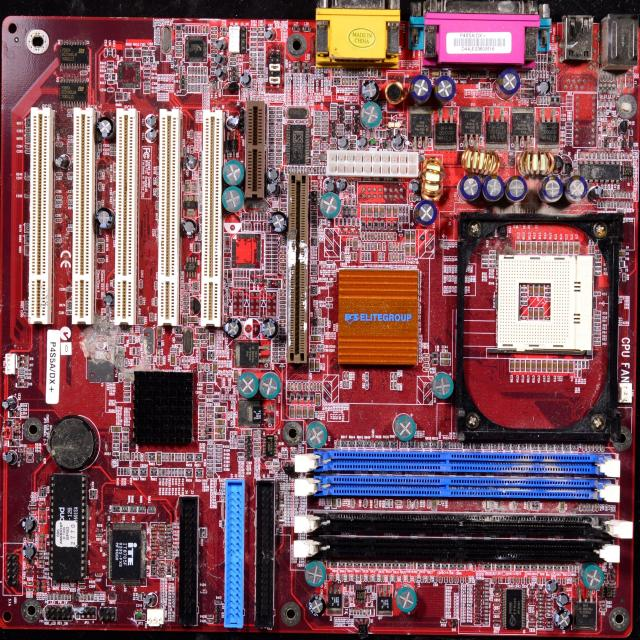Capacitor Jumper: (246, 322, 257, 335), (265, 322, 275, 334), (228, 322, 238, 333), (105, 294, 114, 303), (148, 115, 156, 125), (6, 398, 15, 406), (195, 327, 205, 332), (432, 500, 437, 509), (150, 131, 156, 138), (171, 354, 175, 364), (290, 407, 294, 417), (242, 429, 250, 434), (216, 408, 225, 412), (296, 407, 300, 416), (216, 427, 223, 432), (234, 370, 238, 378), (303, 408, 307, 416), (310, 408, 314, 416), (158, 452, 161, 462), (56, 218, 62, 223), (229, 270, 232, 280), (217, 434, 224, 438), (426, 576, 429, 585), (188, 317, 194, 321), (316, 395, 319, 403), (113, 427, 119, 431), (148, 46, 154, 50), (142, 46, 148, 50), (40, 502, 46, 506), (387, 574, 390, 582), (26, 588, 32, 592), (367, 594, 370, 602), (620, 250, 624, 256), (154, 298, 157, 305), (311, 362, 314, 369), (415, 441, 418, 448), (527, 502, 530, 509), (561, 503, 564, 510), (327, 562, 330, 569), (155, 188, 158, 195), (344, 218, 347, 225), (198, 232, 201, 239), (139, 279, 142, 286), (112, 280, 115, 287), (521, 292, 526, 296), (26, 128, 30, 133), (471, 136, 473, 146), (211, 334, 213, 343), (316, 362, 319, 368), (216, 420, 222, 423), (14, 435, 20, 438), (439, 439, 441, 448), (499, 442, 502, 448), (105, 48, 107, 57), (511, 564, 514, 570), (96, 573, 102, 576), (333, 574, 336, 580), (381, 575, 384, 581), (465, 576, 468, 582), (528, 602, 534, 605), (541, 64, 544, 70), (188, 68, 191, 74), (342, 78, 345, 84), (288, 120, 294, 123), (577, 152, 580, 158), (198, 152, 201, 158), (224, 233, 230, 236), (155, 282, 157, 290), (125, 358, 127, 366), (113, 48, 115, 56), (395, 574, 397, 582), (408, 575, 410, 583), (250, 58, 254, 62), (156, 177, 158, 185), (67, 287, 72, 290), (326, 298, 331, 301), (23, 313, 28, 316), (521, 317, 526, 320), (311, 344, 316, 347), (319, 384, 322, 389), (124, 392, 129, 395), (123, 440, 128, 443), (438, 499, 441, 504), (494, 603, 499, 606), (107, 89, 112, 92), (537, 98, 540, 103), (68, 109, 73, 112), (565, 126, 570, 129), (566, 142, 571, 145), (322, 147, 327, 150), (56, 195, 61, 198), (312, 206, 317, 209), (384, 234, 387, 239), (327, 283, 332, 286), (176, 358, 178, 365), (214, 363, 216, 370), (198, 364, 200, 371), (202, 364, 204, 371), (347, 372, 349, 379), (169, 454, 171, 461), (512, 502, 514, 509), (191, 66, 193, 73), (204, 67, 206, 74), (194, 67, 196, 74), (612, 119, 614, 126), (98, 145, 100, 152), (184, 146, 186, 153), (114, 192, 116, 199), (242, 213, 244, 220), (156, 230, 158, 237), (194, 292, 198, 295), (66, 312, 72, 314), (176, 30, 180, 33), (326, 319, 328, 325), (318, 348, 322, 351), (424, 358, 428, 361), (138, 359, 140, 365), (210, 364, 212, 370), (303, 384, 305, 390), (208, 395, 212, 398), (200, 403, 204, 406), (337, 440, 339, 446), (372, 441, 374, 447), (113, 444, 117, 447), (471, 443, 473, 449), (590, 444, 592, 450), (146, 454, 148, 460), (364, 500, 366, 506), (375, 500, 377, 506), (428, 501, 430, 507), (492, 502, 494, 508), (582, 504, 584, 510), (586, 504, 588, 510), (579, 504, 581, 510), (466, 563, 468, 569), (341, 574, 343, 580), (347, 575, 349, 581), (368, 574, 370, 580), (401, 575, 403, 581), (434, 576, 436, 582), (414, 576, 416, 582), (439, 577, 442, 581), (421, 576, 423, 582), (449, 578, 452, 582), (557, 578, 559, 584), (476, 591, 480, 594), (230, 59, 236, 61), (475, 602, 479, 605), (600, 609, 604, 612), (494, 621, 500, 623), (251, 63, 255, 66), (108, 66, 112, 69), (180, 67, 182, 73), (332, 70, 334, 76), (335, 70, 337, 76), (375, 70, 377, 76), (532, 71, 534, 77), (352, 78, 354, 84), (346, 78, 348, 84), (219, 81, 221, 87), (548, 98, 550, 104), (302, 120, 306, 123), (297, 120, 300, 124), (276, 123, 282, 125), (608, 130, 610, 136), (521, 139, 523, 145), (270, 146, 274, 149), (190, 146, 192, 152), (630, 152, 632, 158), (598, 152, 600, 158), (199, 162, 201, 168), (285, 166, 287, 172), (298, 167, 300, 173), (320, 168, 322, 174), (98, 172, 100, 178), (56, 174, 62, 176), (192, 182, 196, 185), (99, 182, 101, 188), (410, 194, 412, 200), (348, 198, 350, 204), (98, 202, 100, 208), (200, 216, 202, 222), (335, 218, 337, 224), (242, 223, 244, 229), (365, 233, 367, 239), (390, 234, 392, 240), (375, 234, 377, 240), (272, 243, 276, 246), (378, 243, 380, 249), (272, 252, 278, 254), (354, 253, 356, 259), (355, 253, 357, 259), (272, 259, 276, 262), (221, 27, 225, 30), (203, 27, 205, 32), (318, 310, 320, 315), (280, 321, 285, 323), (128, 327, 130, 332), (193, 340, 198, 342), (423, 368, 428, 370), (18, 376, 23, 378), (394, 383, 396, 388), (288, 384, 290, 389), (306, 384, 308, 389), (296, 384, 298, 389), (317, 385, 319, 390), (211, 38, 216, 40), (208, 407, 213, 409), (208, 411, 213, 413), (13, 426, 18, 428), (199, 434, 204, 436), (587, 445, 589, 450), (254, 447, 259, 449), (138, 454, 140, 459), (208, 464, 213, 466), (169, 469, 171, 474), (408, 501, 410, 506), (416, 501, 418, 506), (596, 505, 598, 510), (414, 563, 416, 568), (472, 564, 474, 569), (362, 574, 364, 579), (374, 576, 376, 581), (445, 576, 447, 581), (493, 577, 495, 582), (499, 577, 501, 582), (506, 578, 508, 583), (553, 56, 555, 61), (476, 584, 481, 586), (79, 586, 84, 588), (495, 593, 500, 595), (475, 610, 480, 612), (363, 609, 365, 614), (530, 625, 535, 627), (551, 66, 553, 71), (359, 71, 361, 76), (144, 82, 149, 84), (309, 118, 311, 123), (191, 131, 193, 136), (110, 145, 115, 147), (330, 147, 335, 149), (110, 149, 115, 151), (611, 152, 613, 157), (608, 153, 610, 158), (291, 167, 293, 172), (311, 168, 313, 173), (352, 179, 354, 184), (614, 191, 616, 196), (344, 198, 346, 203), (268, 214, 270, 219), (312, 217, 317, 219), (353, 219, 355, 224), (248, 224, 250, 229), (273, 239, 278, 241), (98, 239, 103, 241), (347, 239, 349, 244), (347, 240, 349, 245), (362, 244, 364, 249), (280, 252, 285, 254), (342, 253, 344, 258), (280, 256, 285, 258), (272, 264, 277, 266), (247, 271, 249, 276), (545, 284, 550, 286), (520, 284, 525, 286), (200, 426, 203, 429), (200, 429, 203, 432), (39, 564, 42, 567), (278, 142, 281, 145), (313, 181, 316, 184), (25, 195, 28, 198), (280, 302, 284, 304), (280, 316, 284, 318), (546, 317, 550, 319), (212, 31, 216, 33), (280, 324, 284, 326), (200, 340, 204, 342), (318, 345, 322, 347), (311, 349, 315, 351), (424, 354, 428, 356), (280, 356, 284, 358), (212, 34, 216, 36), (177, 35, 181, 37), (274, 360, 278, 362), (424, 364, 428, 366), (125, 379, 129, 381), (366, 383, 368, 387), (314, 385, 316, 389), (200, 395, 204, 397), (208, 414, 212, 416), (124, 428, 128, 430), (14, 430, 18, 432), (527, 444, 529, 448), (598, 446, 600, 450), (266, 462, 270, 464), (208, 468, 212, 470), (212, 46, 216, 48), (159, 470, 161, 474), (396, 501, 400, 503), (176, 54, 180, 56), (479, 564, 481, 568), (159, 571, 163, 573), (159, 575, 163, 577), (461, 577, 463, 581), (522, 578, 524, 582), (516, 578, 518, 582), (563, 578, 565, 582), (538, 578, 540, 582), (455, 578, 457, 582), (526, 578, 528, 582), (476, 588, 480, 590), (547, 594, 551, 596), (530, 595, 534, 597), (476, 595, 480, 597), (136, 610, 140, 612), (547, 610, 551, 612), (494, 611, 498, 613), (475, 614, 479, 616), (548, 615, 552, 617), (538, 618, 542, 620), (530, 619, 534, 621), (476, 622, 480, 624), (547, 625, 551, 627), (211, 68, 215, 70), (251, 68, 255, 70), (201, 68, 203, 72), (361, 71, 363, 75), (354, 80, 356, 84), (566, 123, 570, 125), (270, 128, 274, 130), (276, 138, 280, 140), (314, 140, 318, 142), (418, 138, 419, 146), (56, 142, 60, 144), (322, 144, 326, 146), (330, 144, 334, 146), (26, 146, 30, 148), (26, 150, 30, 152), (68, 151, 72, 153), (622, 153, 624, 157), (269, 157, 273, 159), (269, 161, 273, 163), (281, 208, 285, 210), (312, 213, 316, 215), (113, 232, 115, 236), (272, 248, 276, 250), (224, 250, 228, 252), (327, 262, 331, 264), (281, 266, 285, 268), (272, 276, 276, 278), (211, 27, 215, 29), (225, 315, 226, 322), (124, 452, 125, 459), (132, 453, 133, 460), (553, 85, 554, 92), (375, 243, 376, 250), (199, 26, 200, 32), (546, 289, 548, 292), (281, 294, 284, 296), (207, 27, 208, 33), (140, 298, 141, 304), (161, 358, 162, 364), (344, 372, 345, 378), (120, 375, 121, 381), (311, 384, 312, 390), (259, 38, 262, 40), (200, 422, 203, 424), (177, 42, 180, 44), (200, 438, 203, 440), (120, 453, 121, 459), (352, 500, 353, 506), (593, 504, 594, 510), (30, 508, 36, 509), (160, 524, 163, 526), (152, 528, 155, 530), (212, 54, 215, 56), (153, 543, 156, 545), (231, 54, 234, 56), (152, 556, 155, 558), (39, 557, 42, 559), (160, 561, 163, 563), (492, 564, 493, 570), (353, 574, 354, 580), (512, 577, 513, 583), (548, 603, 551, 605), (230, 62, 233, 64), (211, 62, 214, 64), (538, 64, 539, 70), (545, 64, 546, 70), (144, 71, 150, 72), (269, 135, 272, 137), (599, 140, 600, 146), (111, 153, 114, 155), (269, 165, 271, 168), (276, 166, 279, 168), (313, 187, 316, 189), (414, 194, 415, 200), (69, 196, 72, 198), (259, 214, 260, 220), (68, 230, 71, 232), (369, 233, 370, 239), (379, 233, 380, 239), (393, 244, 394, 250), (396, 244, 397, 250), (393, 254, 394, 260), (397, 254, 398, 260), (99, 260, 102, 262), (280, 263, 286, 264), (619, 269, 621, 272), (225, 270, 226, 276), (266, 275, 269, 277), (207, 333, 208, 338), (201, 345, 206, 346), (158, 350, 159, 355), (391, 374, 392, 379), (291, 384, 292, 389), (583, 445, 584, 450), (594, 445, 595, 450), (151, 533, 156, 534), (27, 565, 32, 566), (368, 71, 369, 76), (524, 72, 525, 77), (219, 83, 220, 88), (371, 132, 372, 137), (68, 144, 73, 145), (305, 168, 306, 173), (324, 168, 325, 173), (114, 174, 115, 179), (249, 214, 250, 219), (351, 240, 352, 245), (351, 253, 352, 258), (280, 260, 285, 261), (281, 291, 285, 292), (260, 28, 262, 30), (225, 297, 226, 301), (195, 344, 197, 346), (280, 349, 284, 350), (208, 423, 212, 424), (208, 472, 212, 473), (208, 476, 212, 477), (212, 50, 216, 51), (152, 540, 156, 541), (210, 58, 214, 59), (84, 596, 85, 600), (476, 598, 478, 600), (548, 621, 550, 623), (339, 70, 340, 74), (211, 72, 213, 74), (260, 75, 262, 77), (68, 147, 72, 148), (270, 154, 272, 156), (586, 153, 587, 157), (26, 178, 28, 180), (282, 184, 283, 188), (363, 234, 364, 238), (372, 234, 373, 238), (388, 235, 389, 239), (56, 240, 60, 241), (281, 271, 285, 272), (312, 273, 316, 274), (284, 276, 285, 280), (284, 283, 285, 287), (281, 345, 284, 346), (602, 447, 603, 450), (208, 461, 211, 462), (160, 529, 163, 530), (28, 582, 31, 583), (539, 587, 542, 588), (475, 606, 478, 607), (547, 607, 550, 608), (530, 614, 533, 615), (273, 271, 276, 272), (212, 43, 214, 44), (153, 536, 155, 537), (540, 591, 542, 592), (548, 599, 550, 600), (259, 34, 262, 34), (158, 358, 158, 364), (300, 383, 300, 390), (136, 453, 136, 459), (152, 548, 156, 548), (478, 580, 480, 580), (544, 578, 544, 583), (530, 592, 534, 592), (474, 619, 479, 619), (199, 67, 199, 74), (269, 132, 272, 132), (350, 178, 350, 184), (353, 198, 353, 203), (382, 234, 382, 238)
Connector: (32, 107, 50, 316), (162, 108, 176, 313), (205, 114, 218, 318), (75, 108, 87, 315), (121, 112, 131, 319)
IC: (110, 525, 142, 582), (236, 235, 259, 266), (289, 125, 305, 165), (506, 590, 522, 628), (61, 45, 86, 63), (187, 38, 206, 61), (62, 84, 85, 103), (264, 437, 273, 453), (355, 589, 365, 600), (187, 262, 196, 271), (606, 586, 612, 596), (624, 166, 630, 176), (151, 567, 156, 574)
Resistor Jumper: (278, 525, 282, 532), (213, 394, 219, 398), (31, 501, 37, 505), (222, 520, 225, 528), (96, 528, 102, 532), (188, 26, 191, 33), (199, 171, 202, 178), (594, 292, 599, 296), (326, 304, 331, 308), (27, 458, 32, 462), (565, 134, 570, 138), (520, 297, 526, 300), (106, 316, 109, 322), (141, 318, 144, 324), (118, 336, 121, 342), (170, 348, 176, 351), (449, 442, 452, 448), (175, 454, 178, 460), (250, 48, 256, 51), (38, 571, 44, 574), (206, 620, 212, 623), (201, 77, 204, 83), (144, 90, 150, 93), (323, 124, 329, 127), (382, 130, 385, 136), (479, 139, 482, 145), (112, 202, 115, 208), (623, 274, 626, 280), (260, 58, 264, 62), (215, 600, 219, 604), (107, 60, 111, 64), (346, 116, 350, 120), (277, 159, 281, 163), (156, 166, 158, 174), (185, 284, 188, 289), (521, 288, 526, 291), (595, 311, 600, 314), (149, 314, 152, 319), (595, 315, 600, 318), (595, 319, 600, 322), (273, 348, 278, 351), (205, 364, 208, 369), (389, 501, 392, 506), (537, 55, 540, 60), (38, 575, 43, 578), (276, 106, 281, 109), (567, 107, 572, 110), (567, 130, 572, 133), (379, 131, 382, 136), (311, 225, 316, 228), (482, 255, 487, 258), (595, 267, 600, 270), (18, 369, 25, 371), (118, 468, 120, 475), (386, 500, 388, 507), (342, 69, 344, 76), (124, 93, 126, 100), (630, 128, 632, 135), (199, 180, 201, 187), (348, 186, 350, 193), (156, 201, 158, 208), (200, 205, 202, 212), (255, 213, 257, 220), (261, 214, 263, 221), (400, 243, 402, 250), (389, 253, 391, 260), (240, 280, 242, 287), (237, 280, 239, 287), (252, 27, 256, 30), (224, 306, 226, 312), (107, 306, 109, 312), (118, 326, 120, 332), (121, 326, 123, 332), (140, 327, 142, 333), (321, 328, 323, 334), (596, 334, 600, 337), (134, 336, 136, 342), (181, 357, 183, 363), (582, 361, 584, 367), (125, 382, 129, 385), (391, 382, 393, 388), (250, 38, 254, 41), (213, 400, 217, 403), (200, 418, 204, 421), (254, 431, 258, 434), (113, 433, 119, 435), (123, 433, 127, 436), (251, 43, 255, 46), (216, 445, 222, 447), (239, 445, 243, 448), (114, 447, 118, 450), (258, 44, 264, 46), (114, 452, 117, 456), (165, 453, 167, 459), (126, 453, 128, 459), (172, 454, 174, 460), (176, 45, 182, 47), (272, 462, 278, 464), (217, 467, 221, 470), (128, 468, 130, 474), (121, 468, 123, 474), (124, 469, 126, 475), (97, 534, 101, 537), (540, 55, 542, 61), (80, 579, 84, 582), (138, 593, 140, 599), (55, 594, 57, 600), (367, 609, 369, 615), (441, 620, 447, 622), (145, 64, 149, 67), (528, 72, 530, 78), (192, 76, 194, 82), (188, 76, 190, 82), (195, 76, 197, 82), (349, 79, 351, 85), (195, 86, 197, 92), (599, 100, 601, 106), (270, 110, 274, 113), (615, 119, 617, 125), (338, 125, 342, 128), (530, 139, 532, 145), (582, 152, 584, 158), (276, 157, 282, 159), (574, 162, 576, 168), (114, 164, 116, 170), (272, 197, 276, 200), (280, 204, 286, 206), (340, 219, 342, 225), (245, 223, 247, 229), (255, 224, 257, 230), (372, 243, 374, 249), (383, 244, 385, 250), (594, 252, 600, 254), (491, 255, 495, 258), (490, 264, 494, 267), (312, 264, 316, 267), (266, 266, 270, 269), (234, 270, 236, 276), (195, 27, 197, 32), (183, 299, 188, 301), (316, 310, 318, 315), (322, 320, 324, 325), (315, 328, 317, 333), (312, 328, 314, 333), (594, 331, 599, 333), (141, 337, 143, 342), (122, 337, 124, 342), (130, 337, 132, 342), (208, 347, 213, 349), (133, 348, 135, 353), (137, 348, 139, 353), (134, 358, 136, 363), (578, 362, 580, 367), (579, 370, 581, 375), (575, 371, 577, 376), (343, 382, 345, 387), (347, 382, 349, 387), (207, 385, 212, 387), (176, 38, 181, 40), (125, 398, 130, 400), (200, 415, 205, 417), (14, 420, 19, 422), (456, 442, 458, 447), (123, 444, 128, 446), (28, 454, 33, 456), (216, 456, 221, 458), (181, 455, 183, 460), (273, 467, 278, 469), (175, 469, 177, 474), (162, 469, 164, 474), (326, 499, 328, 504), (338, 500, 340, 505), (27, 574, 32, 576), (357, 575, 359, 580), (371, 586, 373, 591), (201, 590, 206, 592), (88, 595, 90, 600), (350, 609, 352, 614), (207, 615, 212, 617), (258, 64, 263, 66), (108, 71, 113, 73), (346, 70, 348, 75), (198, 77, 200, 82), (192, 86, 194, 91), (346, 113, 351, 115), (615, 130, 617, 135), (612, 130, 614, 135), (346, 132, 351, 134), (566, 138, 571, 140), (276, 146, 281, 148), (313, 148, 318, 150), (619, 153, 621, 158), (601, 153, 603, 158), (289, 166, 291, 171), (68, 174, 73, 176), (608, 191, 610, 196), (620, 202, 622, 207), (601, 202, 603, 207), (604, 202, 606, 207), (245, 214, 247, 219), (365, 244, 367, 249), (280, 248, 285, 250), (591, 247, 593, 252), (382, 253, 384, 258), (399, 254, 401, 259), (224, 258, 229, 260), (224, 262, 229, 264), (224, 266, 229, 268), (234, 281, 236, 286), (596, 338, 599, 341), (27, 448, 30, 451), (28, 571, 31, 574), (568, 103, 571, 106), (270, 118, 273, 121), (546, 294, 550, 296), (522, 303, 526, 305), (184, 303, 188, 305), (184, 306, 188, 308), (596, 323, 600, 325), (596, 327, 600, 329), (273, 341, 277, 343), (596, 342, 600, 344), (177, 350, 179, 354), (280, 352, 284, 354), (274, 356, 278, 358), (188, 359, 190, 363), (19, 372, 23, 374), (125, 387, 129, 389), (208, 389, 212, 391), (238, 436, 242, 438), (114, 438, 118, 440), (114, 441, 118, 443), (459, 444, 461, 448), (208, 445, 212, 447), (20, 448, 24, 450), (124, 449, 128, 451), (208, 449, 212, 451), (216, 450, 220, 452), (282, 451, 286, 453), (292, 451, 296, 453), (254, 452, 258, 454), (208, 452, 212, 454), (239, 453, 243, 455), (283, 454, 287, 456), (179, 455, 181, 459), (239, 458, 243, 460), (217, 464, 221, 466), (182, 470, 184, 474), (258, 48, 262, 50), (176, 50, 180, 52), (590, 505, 592, 509), (31, 511, 35, 513), (167, 528, 171, 530), (260, 54, 264, 56), (152, 552, 156, 554), (38, 553, 42, 555), (38, 560, 42, 562), (159, 566, 163, 568), (545, 56, 547, 60), (609, 581, 613, 583), (485, 584, 489, 586), (70, 585, 74, 587), (346, 586, 348, 590), (351, 586, 353, 590), (600, 600, 604, 602), (357, 609, 359, 613), (485, 621, 489, 623), (494, 624, 498, 626), (370, 70, 372, 74), (259, 71, 263, 73), (355, 71, 357, 75), (526, 73, 528, 77), (108, 81, 112, 83), (144, 86, 148, 88), (603, 102, 605, 106), (270, 107, 274, 109), (316, 110, 320, 112), (600, 112, 602, 116), (270, 115, 274, 117), (330, 116, 334, 118), (276, 126, 280, 128), (315, 128, 319, 130), (338, 129, 342, 131), (276, 134, 280, 136), (351, 136, 355, 138), (332, 138, 336, 140), (351, 140, 355, 142), (429, 139, 430, 147), (352, 144, 356, 146), (276, 150, 280, 152), (594, 154, 596, 158), (589, 154, 591, 158), (615, 154, 617, 158), (605, 154, 607, 158), (315, 162, 319, 164), (285, 182, 286, 190), (192, 191, 196, 193), (620, 192, 622, 196), (282, 196, 286, 198), (56, 202, 60, 204), (68, 202, 72, 204), (608, 202, 610, 206), (614, 202, 616, 206), (617, 202, 619, 206), (273, 208, 277, 210), (312, 229, 316, 231), (312, 233, 316, 235), (266, 235, 270, 237), (266, 239, 270, 241), (368, 244, 370, 248), (489, 251, 493, 253), (596, 254, 600, 256), (362, 254, 364, 258), (596, 259, 600, 261), (312, 269, 316, 271), (266, 271, 270, 273), (240, 272, 242, 276), (541, 97, 542, 104), (376, 131, 377, 138), (605, 190, 606, 197), (252, 213, 253, 220), (265, 213, 266, 220), (403, 243, 404, 250), (184, 295, 187, 297), (545, 299, 548, 301), (281, 306, 284, 308), (281, 309, 284, 311), (281, 313, 284, 315), (139, 318, 140, 324), (252, 33, 254, 36), (395, 373, 396, 379), (366, 373, 367, 379), (200, 411, 203, 413), (254, 436, 257, 438), (240, 440, 243, 442), (291, 455, 294, 457), (166, 469, 167, 475), (153, 524, 156, 526), (168, 532, 171, 534), (160, 532, 163, 534), (160, 536, 163, 538), (167, 543, 170, 545), (160, 547, 163, 549), (160, 552, 163, 554), (167, 556, 170, 558), (160, 557, 163, 559), (485, 587, 488, 589), (531, 587, 534, 589), (539, 596, 542, 598), (486, 607, 489, 609), (353, 609, 355, 612), (538, 624, 541, 626), (259, 67, 262, 69), (568, 95, 570, 98), (612, 102, 614, 105), (332, 105, 335, 107), (316, 116, 319, 118), (323, 116, 326, 118), (316, 120, 319, 122), (323, 121, 326, 123), (270, 122, 273, 124), (322, 132, 325, 134), (626, 152, 627, 158), (574, 171, 576, 174), (193, 186, 196, 188), (280, 200, 286, 201), (598, 203, 600, 206), (267, 244, 270, 246), (590, 246, 591, 252), (267, 252, 270, 254), (618, 258, 621, 260), (266, 264, 269, 266), (595, 272, 598, 274), (247, 280, 248, 286), (186, 27, 187, 32), (319, 320, 320, 325), (125, 327, 126, 332), (185, 358, 186, 363), (587, 362, 588, 367), (453, 442, 454, 447), (163, 454, 164, 459), (179, 470, 180, 475), (329, 499, 330, 504), (167, 525, 172, 526), (602, 573, 607, 574), (368, 586, 369, 591), (59, 594, 60, 599), (48, 594, 49, 599), (62, 595, 63, 600), (81, 595, 82, 600), (205, 77, 206, 82), (188, 85, 189, 90), (199, 86, 200, 91), (276, 131, 281, 132), (295, 167, 296, 172), (307, 168, 308, 173), (352, 187, 353, 192), (612, 191, 613, 196), (618, 191, 619, 196), (627, 192, 628, 197), (624, 192, 625, 197), (611, 202, 612, 207), (627, 202, 628, 207), (265, 224, 266, 229), (259, 224, 260, 229), (403, 255, 404, 260), (244, 271, 245, 276), (238, 271, 239, 276), (244, 281, 245, 286), (193, 27, 194, 31), (319, 329, 320, 333), (281, 332, 283, 334), (273, 345, 277, 346), (124, 438, 128, 439), (255, 441, 259, 442), (254, 455, 258, 456), (208, 456, 212, 457), (172, 469, 173, 473), (168, 539, 170, 541), (251, 54, 255, 55), (168, 547, 170, 549), (168, 552, 170, 554), (486, 580, 488, 582), (604, 582, 606, 584), (486, 592, 488, 594), (486, 595, 488, 597), (92, 595, 93, 599), (68, 595, 69, 599), (485, 599, 487, 601), (540, 602, 542, 604), (485, 602, 487, 604), (600, 605, 604, 606), (361, 610, 362, 614), (484, 615, 488, 616), (485, 618, 489, 619), (538, 621, 542, 622), (352, 70, 353, 74), (544, 98, 545, 102), (568, 100, 570, 102), (332, 109, 334, 111), (277, 112, 281, 113), (604, 111, 605, 115), (332, 113, 334, 115), (276, 119, 280, 120), (316, 125, 320, 126), (316, 132, 318, 134), (270, 138, 274, 139), (270, 142, 274, 143), (276, 154, 280, 155), (302, 168, 303, 172), (27, 173, 29, 175), (630, 193, 631, 197), (624, 202, 625, 206), (630, 203, 631, 207), (349, 220, 350, 224), (267, 255, 269, 257), (368, 254, 369, 258), (490, 261, 494, 262), (595, 264, 599, 265), (281, 298, 284, 299), (185, 311, 188, 312), (280, 328, 283, 329), (274, 352, 277, 353), (255, 443, 258, 444), (160, 540, 163, 541), (160, 543, 163, 544), (65, 596, 66, 599), (539, 610, 542, 611), (539, 614, 542, 615), (608, 102, 609, 105), (277, 116, 280, 117), (323, 129, 326, 130), (270, 150, 273, 151), (267, 248, 270, 249), (267, 260, 270, 261), (168, 536, 170, 537), (604, 577, 606, 578), (539, 606, 541, 607), (486, 611, 488, 612), (314, 154, 316, 155), (483, 261, 485, 262), (483, 265, 485, 266), (576, 361, 576, 368), (200, 408, 204, 408), (217, 454, 220, 454), (217, 462, 220, 462), (52, 595, 52, 599), (540, 600, 542, 600), (366, 70, 366, 75), (318, 168, 318, 174), (358, 219, 358, 224), (390, 243, 390, 250), (380, 253, 380, 259), (366, 253, 366, 259)
Transistor: (574, 602, 594, 627), (236, 342, 256, 363), (461, 110, 478, 132), (378, 586, 391, 611), (516, 111, 531, 132), (412, 112, 427, 132), (540, 123, 556, 140), (485, 122, 501, 138), (438, 124, 451, 143), (330, 588, 340, 612), (248, 408, 263, 423), (186, 195, 197, 214), (191, 298, 199, 312), (619, 123, 627, 135), (338, 105, 344, 114), (354, 114, 359, 124), (609, 570, 615, 578), (339, 115, 344, 122), (451, 620, 455, 628), (312, 318, 316, 325), (604, 141, 608, 148), (628, 140, 631, 148), (347, 124, 350, 131), (332, 121, 336, 126), (330, 130, 335, 134), (355, 126, 358, 131), (622, 141, 624, 148)
